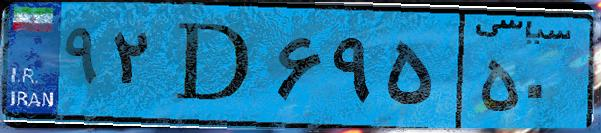0: (525, 38, 570, 115)
2: (110, 28, 158, 98)
5: (385, 28, 445, 110), (475, 38, 525, 113)
6: (270, 28, 330, 110)
9: (330, 28, 385, 110), (57, 26, 110, 100)
D: (158, 12, 270, 120)
